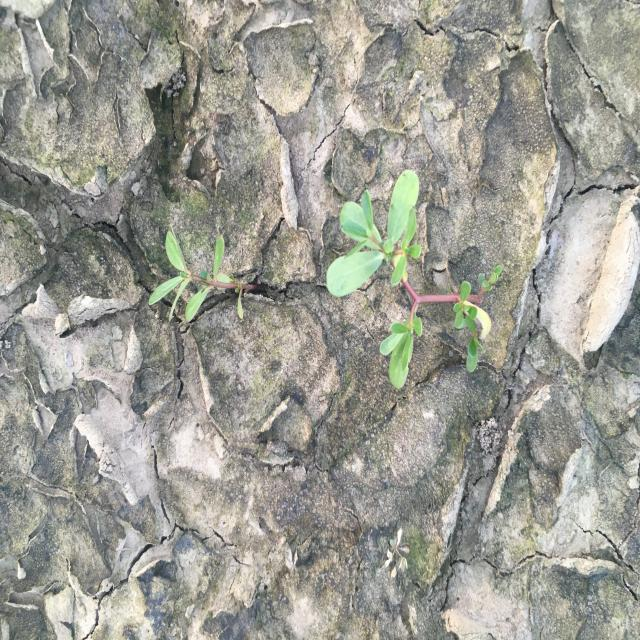Purslane: (324, 168, 503, 391), (147, 223, 259, 324)
